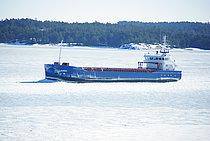Ship: (41, 33, 186, 88)
